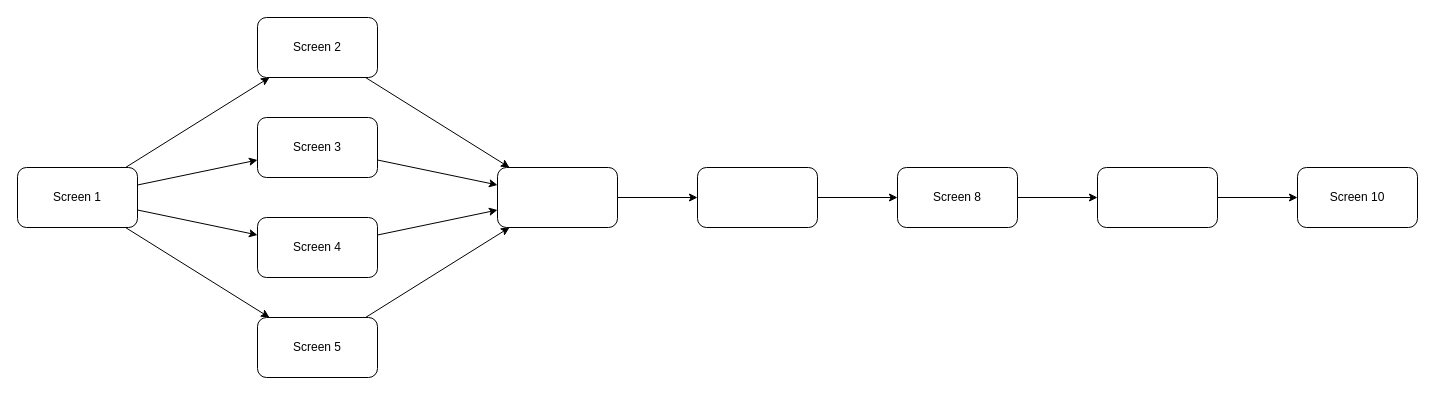
Image size: 1435x395. Some labels were removed from this diagram. The centre of each missing label's shape, as x and y in pixels:
Screen 6: (557,197)
Screen 7: (757,197)
Screen 9: (1157,197)
